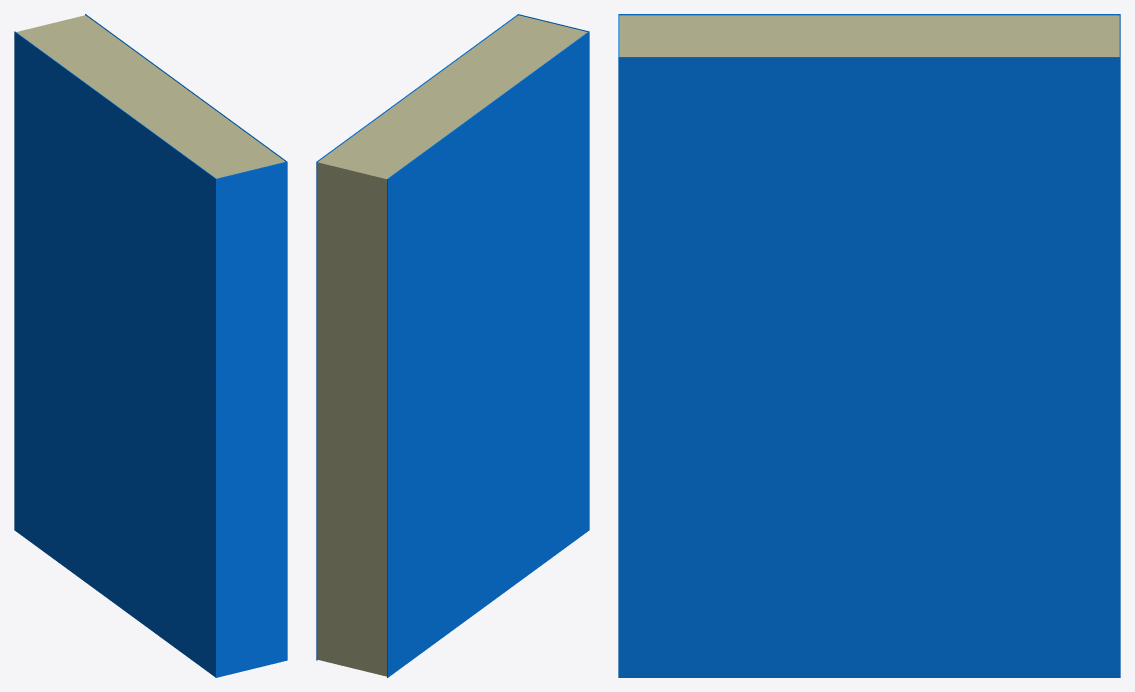
Rendered from single-book-example.fbx.
3 renders of one model, left to right at view 1: azimuth 30°, elevation 25°; view 2: azimuth 150°, elevation 25°; view 3: azimuth 270°, elevation 25°, orthographic. The views are drawn at different scales.
Parts seen in each view (by area): view 1: Book0; view 2: Book0; view 3: Book0.
Boxes of the visible parts, x1,y1,x2,y2 form: Book0: [14, 14, 287, 677]; Book0: [316, 14, 589, 677]; Book0: [618, 14, 1120, 677].
Bounding box in the file's own units: 4.5 × 30 × 22.
